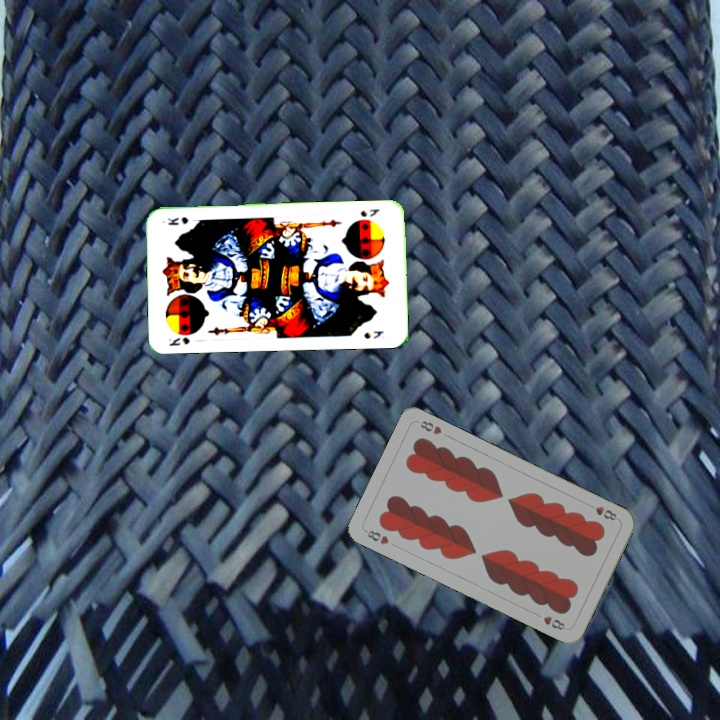H8: (584, 500, 619, 523), (361, 526, 391, 547)
SK: (164, 333, 192, 348), (356, 205, 382, 219)
